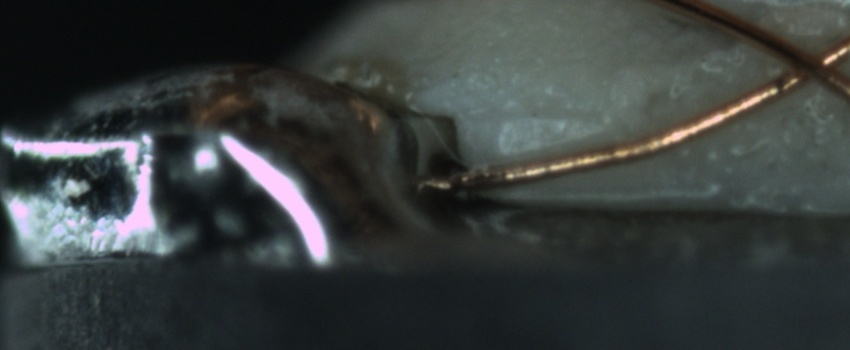CL: (760, 28, 847, 97)
DL: (482, 86, 612, 146)
